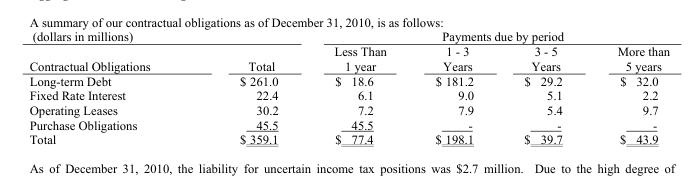table: (28, 28, 669, 145)
table column: (28, 28, 194, 145), (194, 28, 305, 145), (305, 28, 410, 145), (498, 28, 589, 145), (410, 28, 498, 145), (589, 28, 669, 145)
table column header: (28, 28, 669, 73)
table row: (28, 43, 669, 73), (28, 28, 669, 43), (28, 87, 669, 102), (28, 102, 669, 117), (28, 73, 669, 87), (28, 117, 669, 131), (28, 131, 669, 145)
table spanning cell: (305, 28, 669, 43), (28, 28, 305, 43)
